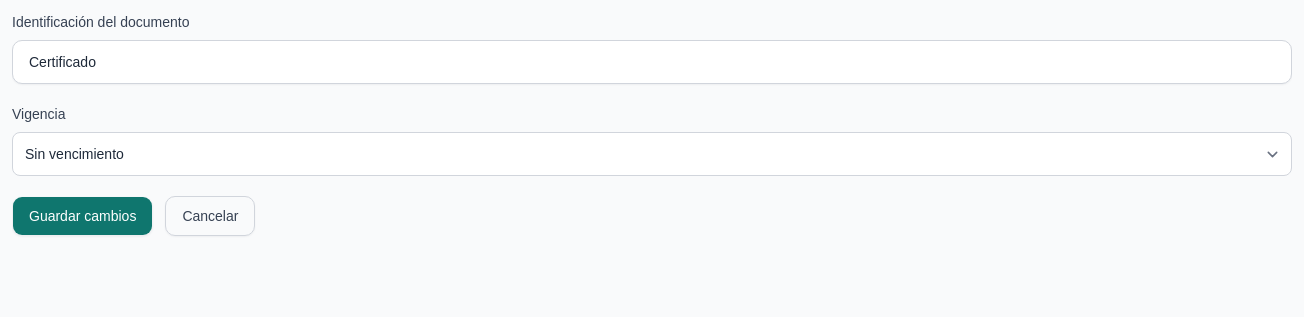
Test: Incremento extra (6 pruebas) › X10 DOC-004: editar un documento envía PATCH y confirma
Click the button "Guardar cambios" at (83, 216), box [12,196,153,236]
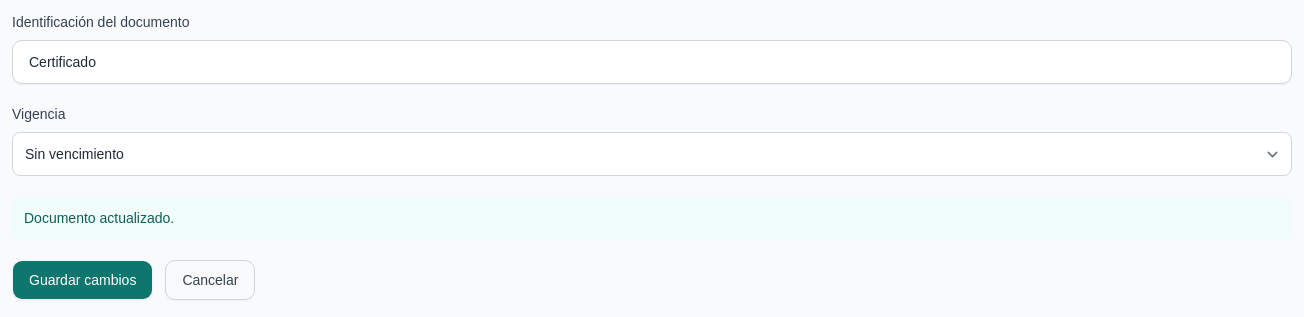
Check: the message reads "Documento actualizado.", box [24,210,174,226]
